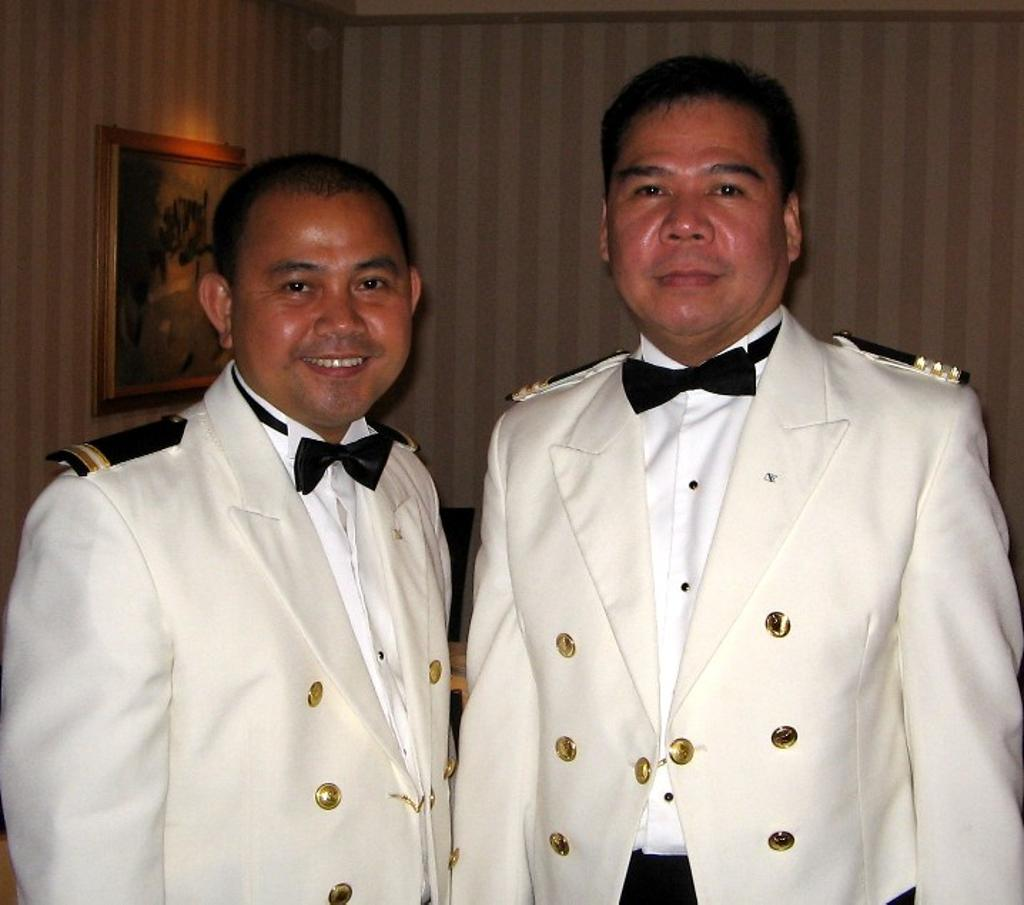face: (234, 184, 412, 422), (606, 96, 784, 330)
